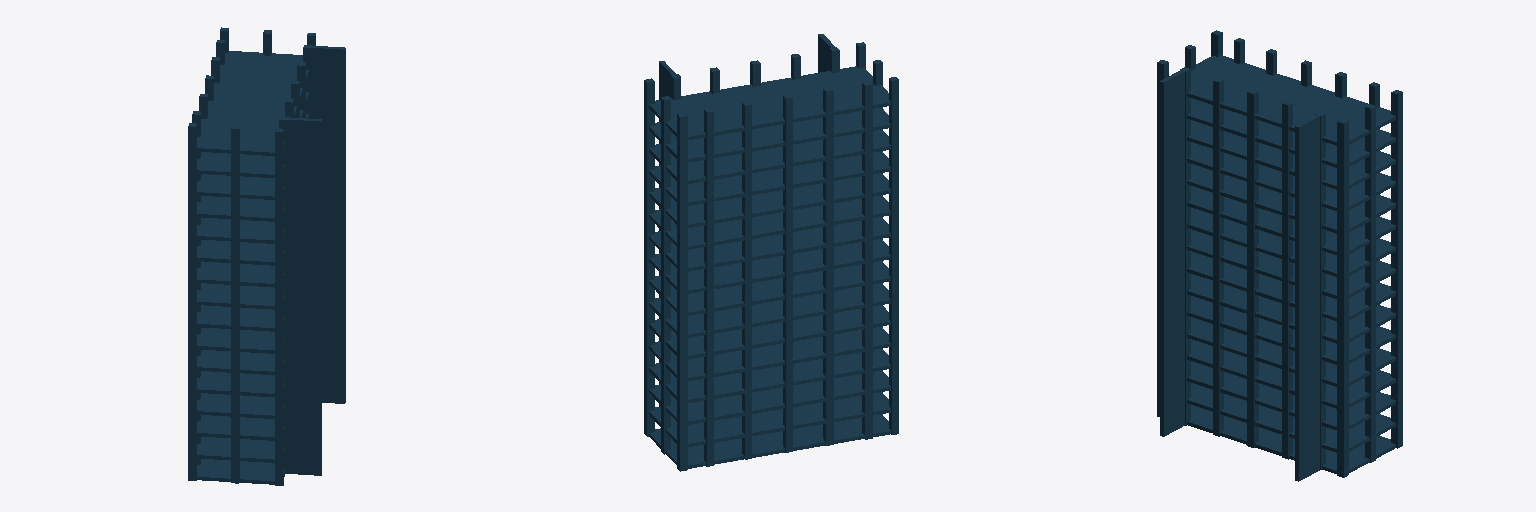
Rendered from fangzis.obj.
The picture shows the model from 3 angles: view 1: azimuth 30°, elevation 25°; view 2: azimuth 150°, elevation 25°; view 3: azimuth 270°, elevation 25°; orthographic projection.
Visible parts, largest first — view 1: syrplant group1; view 2: syrplant group1; view 3: syrplant group1.
Part boxes in pixels (x1,y1,x2,y2): syrplant group1: (188, 27, 345, 485); syrplant group1: (644, 34, 898, 471); syrplant group1: (1157, 30, 1402, 481).
Bounding box in the file's own units: 333 × 567 × 356.